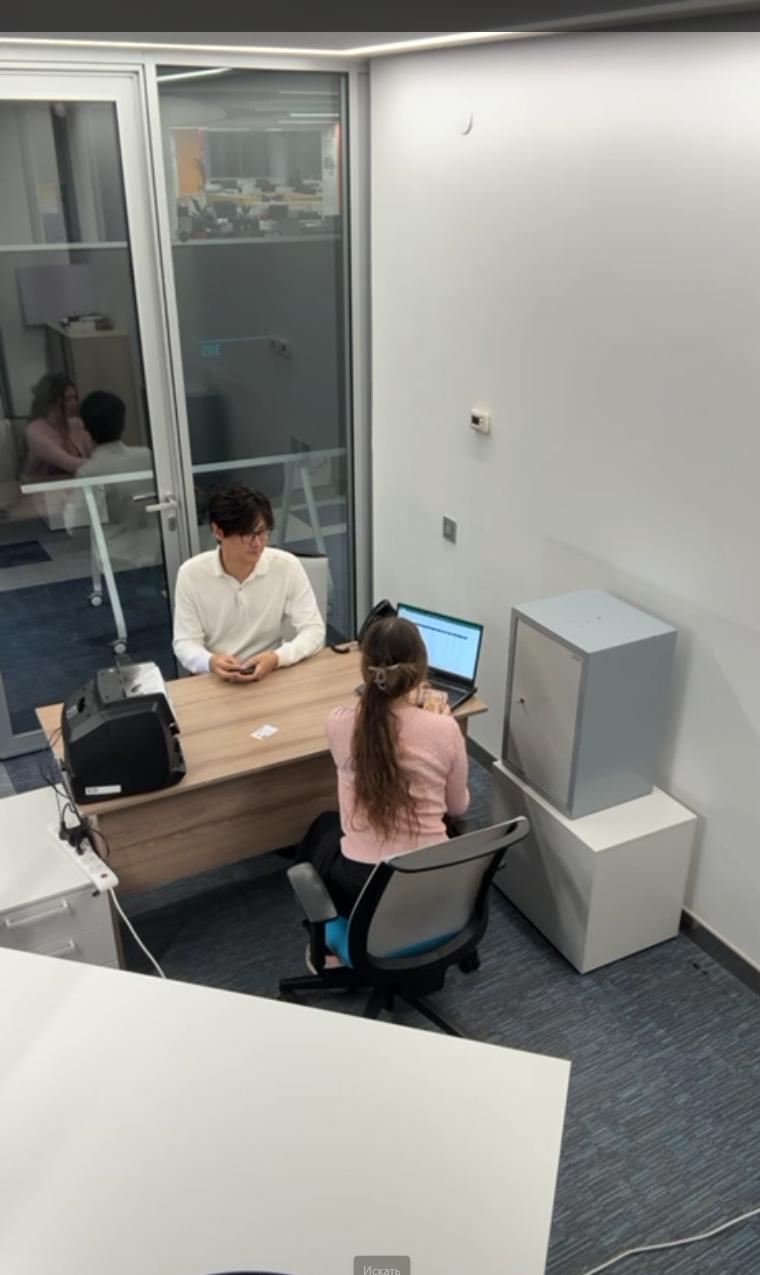cash_stack: (417, 681, 453, 721)
counter: (53, 666, 210, 811)
document: (244, 717, 293, 752)
key_in: (509, 682, 536, 730)
screen_on: (401, 603, 480, 679)
